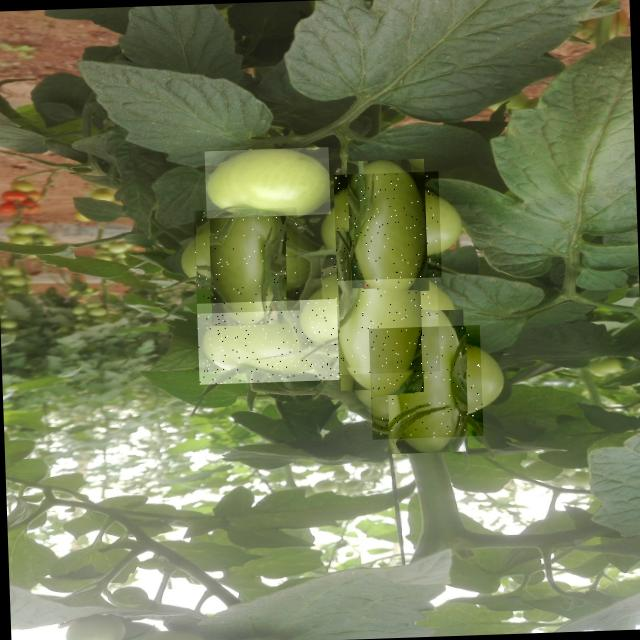Unripe Tomato: (320, 254, 440, 375), (368, 324, 483, 440), (196, 298, 339, 384), (332, 170, 442, 280), (193, 206, 300, 314), (204, 147, 330, 218)
